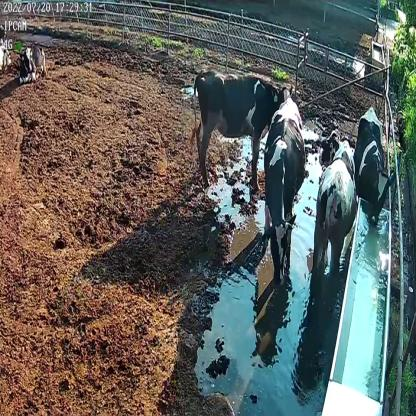cow: (191, 69, 295, 187), (267, 97, 307, 285), (311, 126, 355, 284), (353, 101, 397, 230), (17, 40, 47, 82)
